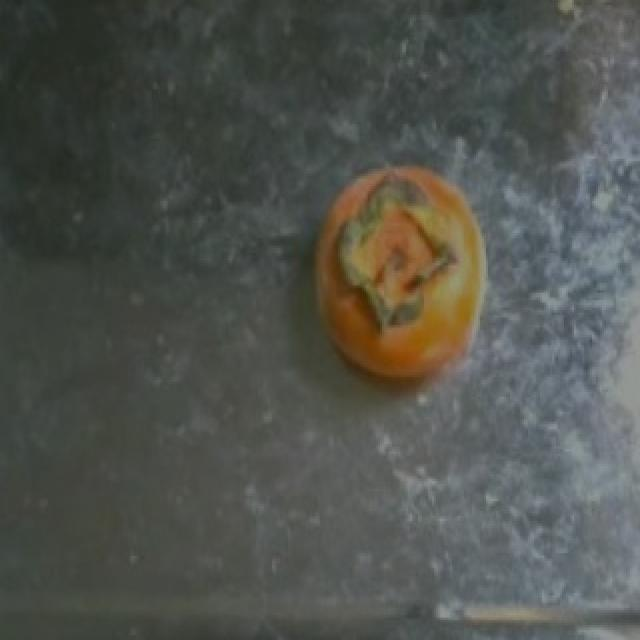Fruit: (288, 146, 510, 414)
